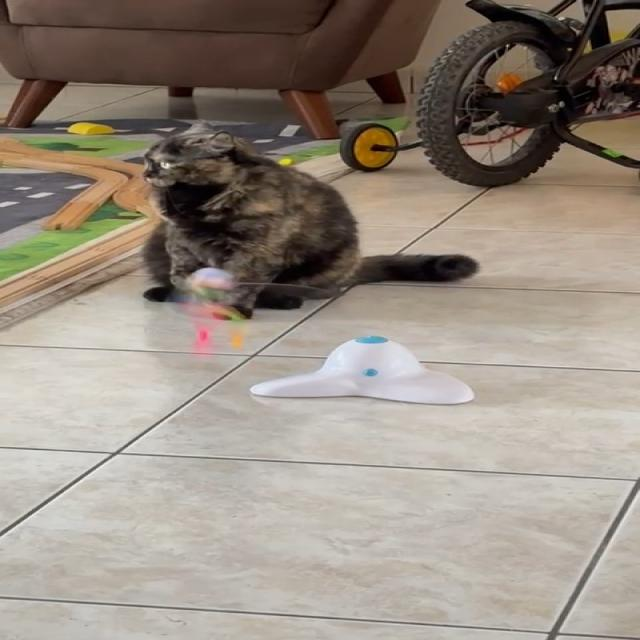authorized: (137, 119, 480, 319)
